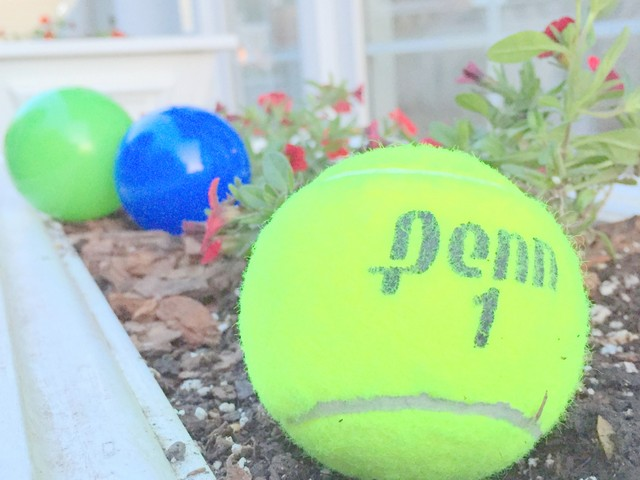ball: (114, 104, 251, 238)
